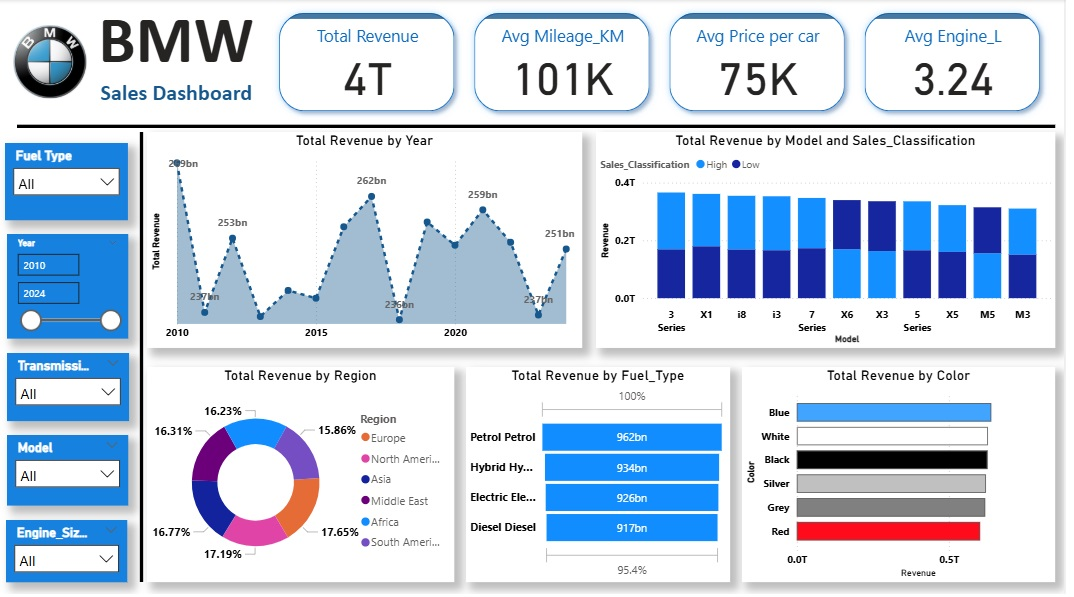

This screenshot's page, from the dashboard's own definition file:
{"tool":"powerbi","page":{"name":"Page 1","canvas":[1280,720],"ordinal":0},"visuals":[{"type":"cardVisual","fields":{"Data":["BMW sales data (2010-2024) (1).Total Revenue","BMW sales data (2010-2024) (1).Avg Mileage_KM","BMW sales data (2010-2024) (1).Avg Price per car","Avg(BMW sales data (2010-2024) (1).Engine_Size_L)"]},"box":[319,0,951.2,152.9],"z":0,"group":"g1"},{"type":"lineChart","fields":{"Y":["BMW sales data (2010-2024) (1).Total Revenue"],"Category":["BMW sales data (2010-2024) (1).Year"]},"box":[177,160.1,523.7,260.1],"z":1000,"group":"g1"},{"type":"slicer","fields":{"Values":["BMW sales data (2010-2024) (1).Year"]},"box":[8.4,282.9,145.7,126.4],"z":2000,"group":"g1"},{"type":"slicer","fields":{"Values":["BMW sales data (2010-2024) (1).Model"]},"box":[8.4,524.9,145.7,85.5],"z":3000,"group":"g1"},{"type":"slicer","fields":{"Values":["BMW sales data (2010-2024) (1).Fuel_Type"]},"box":[6,173.4,148.1,92.7],"z":4000,"group":"g1"},{"type":"textbox","box":[105.7,0,212.9,140],"z":5000,"group":"g1"},{"type":"donutChart","fields":{"Category":["BMW sales data (2010-2024) (1).Region"],"Y":["BMW sales data (2010-2024) (1).Total Revenue"]},"box":[177,443.1,369.6,258.9],"z":6000,"group":"g1"},{"type":"image","box":[6,26.5,107.2,97.5],"z":7000,"group":"g1"},{"type":"shape","box":[20,147.1,1250,12.9],"z":8000,"group":"g1"},{"type":"shape","box":[163.7,160.1,13.2,541.8],"z":9000,"group":"g1"},{"type":"columnChart","fields":{"Y":["BMW sales data (2010-2024) (1).Total Revenue"],"Series":["BMW sales data (2010-2024) (1).Sales_Classification"],"Category":["BMW sales data (2010-2024) (1).Model"]},"box":[717.6,160.1,552.6,260.1],"z":10000,"group":"g1"},{"type":"funnel","title":"Total Revenue by Fuel_Type ","fields":{"Category":["BMW sales data (2010-2024) (1).Model","BMW sales data (2010-2024) (1).Fuel_Type","BMW sales data (2010-2024) (1).Fuel_Type"],"Y":["BMW sales data (2010-2024) (1).Total Revenue"]},"box":[561.1,443.1,317.9,258.9],"z":11000,"group":"g1"},{"type":"barChart","fields":{"Category":["BMW sales data (2010-2024) (1).Color"],"Y":["BMW sales data (2010-2024) (1).Total Revenue"]},"box":[893.4,443.1,376.9,258.9],"z":12000,"group":"g1"},{"type":"slicer","fields":{"Values":["BMW sales data (2010-2024) (1).Transmission"]},"box":[8.4,426.2,146.9,81.9],"z":13000,"group":"g1"},{"type":"slicer","fields":{"Values":["BMW sales data (2010-2024) (1).Engine_Size_L"]},"box":[7.2,627.3,145.7,74.6],"z":14000,"group":"g1"},{"type":"group","id":"g1","title":"Group 1","box":[6,0,1264.2,701.9],"z":14001}]}

Visuals, with their boxes in screenshot pixels (x1, y1, x2, y2), scaled from the page's 1280x720 canvas onto the 1074x597 screenshot:
cardVisual - BMW sales data (2010-2024) (1).Total Revenue x BMW sales data (2010-2024) (1).Avg Mileage_KM: x1=268, y1=0, x2=1066, y2=127
lineChart - BMW sales data (2010-2024) (1).Total Revenue x BMW sales data (2010-2024) (1).Year: x1=149, y1=133, x2=588, y2=348
slicer - BMW sales data (2010-2024) (1).Year: x1=7, y1=235, x2=129, y2=339
slicer - BMW sales data (2010-2024) (1).Model: x1=7, y1=435, x2=129, y2=506
slicer - BMW sales data (2010-2024) (1).Fuel_Type: x1=5, y1=144, x2=129, y2=221
textbox: x1=89, y1=0, x2=267, y2=116
donutChart - BMW sales data (2010-2024) (1).Region x BMW sales data (2010-2024) (1).Total Revenue: x1=149, y1=367, x2=459, y2=582
image: x1=5, y1=22, x2=95, y2=103
shape: x1=17, y1=122, x2=1066, y2=133
shape: x1=137, y1=133, x2=148, y2=582
columnChart - BMW sales data (2010-2024) (1).Total Revenue x BMW sales data (2010-2024) (1).Sales_Classification: x1=602, y1=133, x2=1066, y2=348
"Total Revenue by Fuel_Type " funnel: x1=471, y1=367, x2=738, y2=582
barChart - BMW sales data (2010-2024) (1).Color x BMW sales data (2010-2024) (1).Total Revenue: x1=750, y1=367, x2=1066, y2=582
slicer - BMW sales data (2010-2024) (1).Transmission: x1=7, y1=353, x2=130, y2=421
slicer - BMW sales data (2010-2024) (1).Engine_Size_L: x1=6, y1=520, x2=128, y2=582
"Group 1" group: x1=5, y1=0, x2=1066, y2=582
